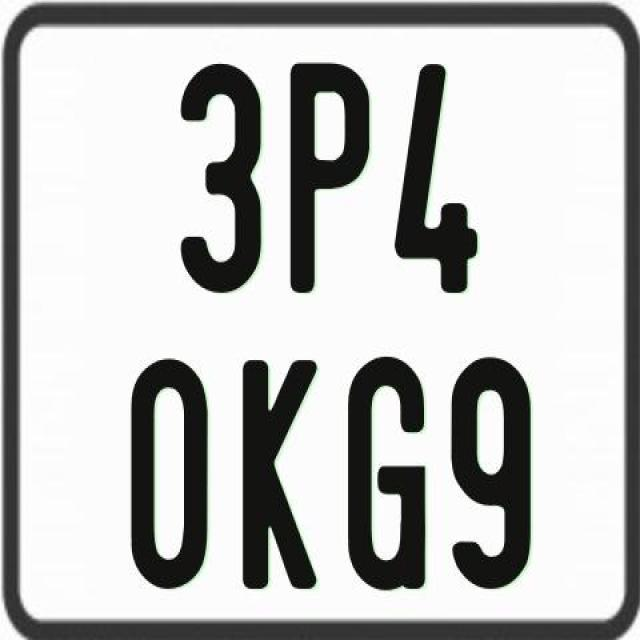0: (130, 356, 217, 594)
3: (178, 59, 262, 298)
4: (394, 59, 482, 296)
9: (451, 357, 534, 592)
G: (346, 354, 426, 588)
K: (238, 360, 314, 597)
P: (290, 64, 378, 302)
